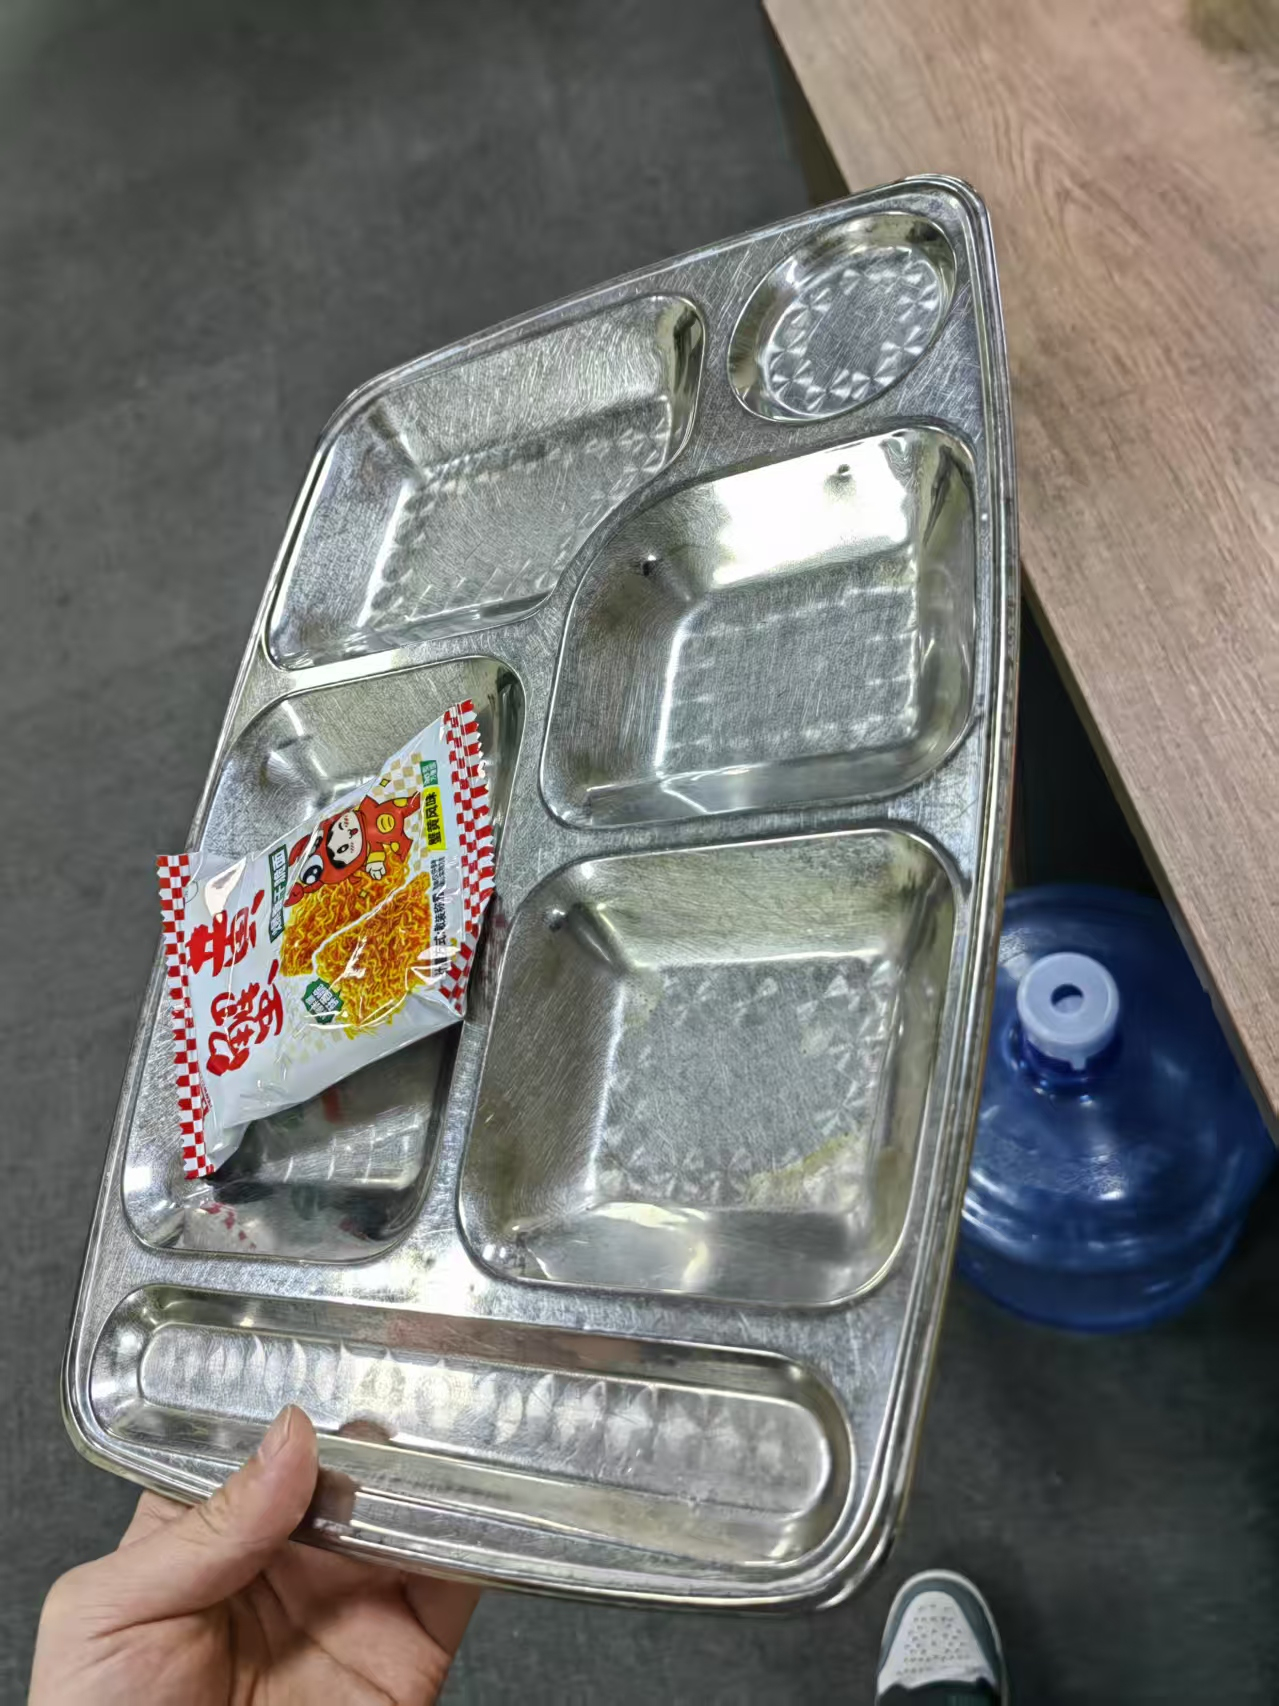mild: (157, 695, 495, 1180)
plate: (62, 172, 1021, 1623)
